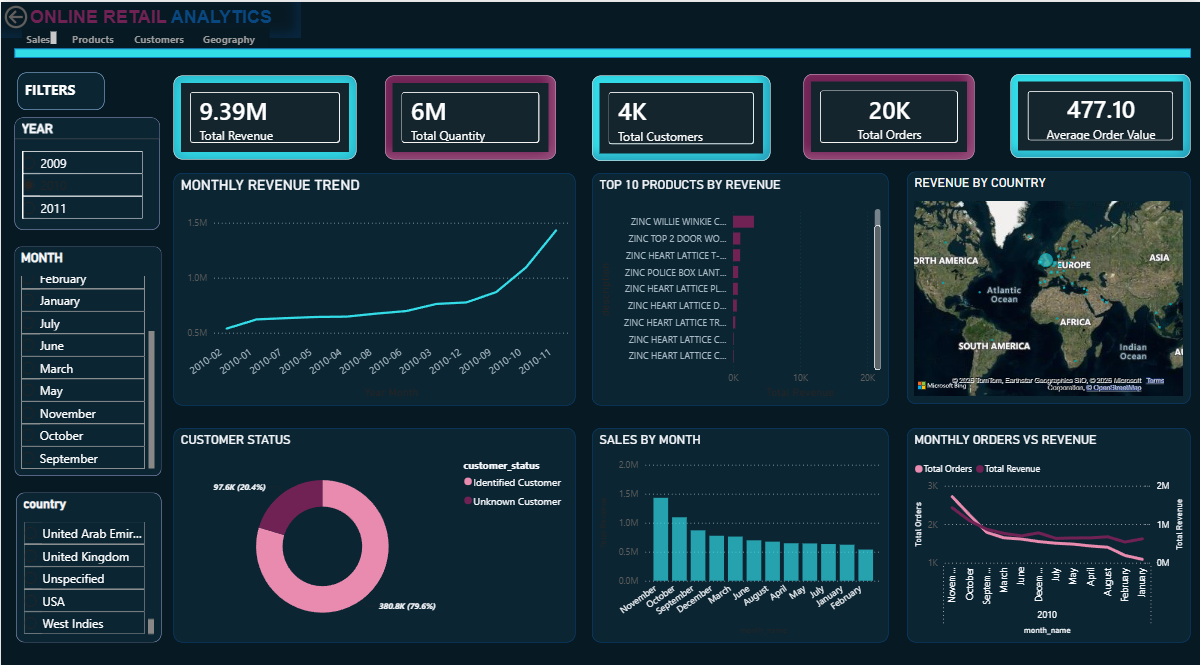

Layout of this report page (visuals, bound fields, positions):
{"tool":"powerbi","page":{"name":"Page 1","canvas":[1600,900],"ordinal":0},"visuals":[{"type":"textbox","box":[0,0,400,48],"z":0},{"type":"textbox","box":[27.5,33.8,51,27],"z":1000},{"type":"textbox","box":[163.8,33.8,101.2,26.2],"z":2000},{"type":"textbox","box":[78.8,33.8,88.8,30],"z":3000},{"type":"textbox","box":[250,33.8,107.8,28.9],"z":4000},{"type":"shape","box":[18.8,62.5,1568.8,12.5],"z":5000},{"type":"cardVisual","fields":{"Data":["online_retail_analytics sales.Total Revenue"]},"box":[230,98,244,112],"z":6000},{"type":"cardVisual","fields":{"Data":["online_retail_analytics sales.Total Customers"]},"box":[788,98,238,114],"z":7000},{"type":"cardVisual","fields":{"Data":["online_retail_analytics sales.Total Orders"]},"box":[1070,96,228,114],"z":8000},{"type":"cardVisual","fields":{"Data":["online_retail_analytics sales.Total Quantity"]},"box":[512,98,228,112],"z":9000},{"type":"cardVisual","fields":{"Data":["online_retail_analytics sales.Average Order Value"]},"box":[1346,96,240,112],"z":10000},{"type":"lineChart","title":"MONTHLY REVENUE TREND","fields":{"Category":["online_retail_analytics sales.Year Month"],"Y":["online_retail_analytics sales.Total Revenue"]},"box":[230,227,536,310],"z":11000},{"type":"clusteredBarChart","title":"TOP 10 PRODUCTS BY REVENUE","fields":{"Category":["online_retail_analytics sales.description"],"Y":["online_retail_analytics sales.Total Revenue"]},"box":[788,228,395,310],"z":12000},{"type":"map","title":"REVENUE BY COUNTRY","fields":{"Category":["online_retail_analytics sales.country"],"Size":["online_retail_analytics sales.Total Revenue"]},"box":[1208,226,378,310],"z":13000},{"type":"donutChart","title":"CUSTOMER STATUS","fields":{"Category":["online_retail_analytics sales.customer_status"],"Y":["CountNonNull(online_retail_analytics sales.invoice)"]},"box":[230,568,536,286],"z":14000},{"type":"clusteredColumnChart","title":"SALES BY MONTH","fields":{"Y":["online_retail_analytics sales.Total Revenue"],"Category":["online_retail_analytics sales.month_name"]},"box":[788,568,395,286],"z":15000},{"type":"lineChart","title":"MONTHLY ORDERS VS REVENUE","fields":{"Category":["online_retail_analytics sales.year","online_retail_analytics sales.month_name"],"Y":["online_retail_analytics sales.Total Orders"],"Y2":["online_retail_analytics sales.Total Revenue"]},"box":[1208,568,378,286],"z":16000},{"type":"listSlicer","title":"YEAR","fields":{"Values":["online_retail_analytics sales.year"]},"box":[18,154,194,150],"z":17000},{"type":"listSlicer","title":"MONTH","fields":{"Values":["online_retail_analytics sales.month_name"]},"box":[18,326,196,306],"z":18000},{"type":"listSlicer","fields":{"Values":["online_retail_analytics sales.country"]},"box":[20,654,194,200],"z":19000},{"type":"actionButton","box":[0,0,100,40],"z":20000},{"type":"textbox","box":[22,94,116,50],"z":21000}]}

Visuals, with their boxes in screenshot pixels (x1, y1, x2, y2):
textbox: select_region(0, 0, 287, 36)
textbox: select_region(5, 26, 44, 46)
textbox: select_region(108, 26, 185, 45)
textbox: select_region(44, 26, 111, 48)
textbox: select_region(173, 26, 255, 47)
shape: select_region(0, 47, 1185, 57)
cardVisual - online_retail_analytics sales.Total Revenue: select_region(158, 74, 343, 159)
cardVisual - online_retail_analytics sales.Total Customers: select_region(580, 74, 760, 160)
cardVisual - online_retail_analytics sales.Total Orders: select_region(793, 73, 966, 159)
cardVisual - online_retail_analytics sales.Total Quantity: select_region(372, 74, 544, 159)
cardVisual - online_retail_analytics sales.Average Order Value: select_region(1002, 73, 1184, 157)
"MONTHLY REVENUE TREND" lineChart: select_region(158, 172, 564, 406)
"TOP 10 PRODUCTS BY REVENUE" clusteredBarChart: select_region(580, 172, 879, 407)
"REVENUE BY COUNTRY" map: select_region(898, 171, 1184, 405)
"CUSTOMER STATUS" donutChart: select_region(158, 430, 564, 646)
"SALES BY MONTH" clusteredColumnChart: select_region(580, 430, 879, 646)
"MONTHLY ORDERS VS REVENUE" lineChart: select_region(898, 430, 1184, 646)
"YEAR" listSlicer: select_region(0, 116, 145, 230)
"MONTH" listSlicer: select_region(0, 247, 146, 478)
listSlicer - online_retail_analytics sales.country: select_region(0, 495, 146, 646)
actionButton: select_region(0, 0, 60, 30)
textbox: select_region(1, 71, 89, 109)
